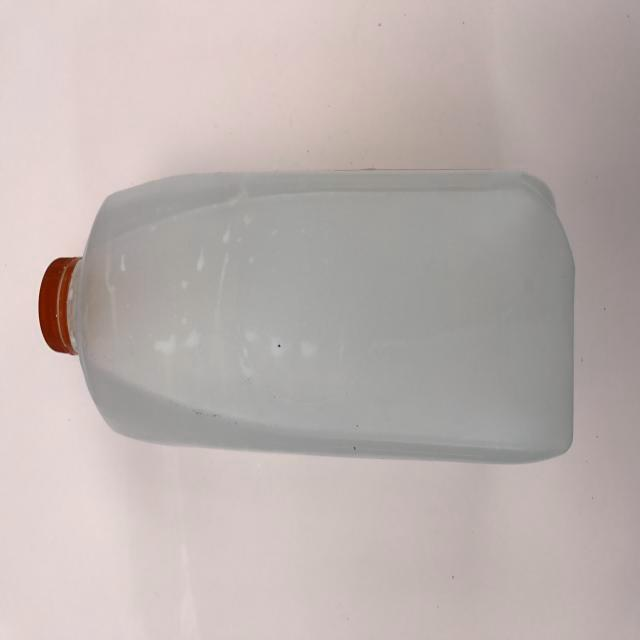plastic: (29, 152, 592, 496)
